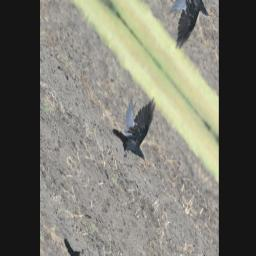Crow: (108, 73, 168, 177)
